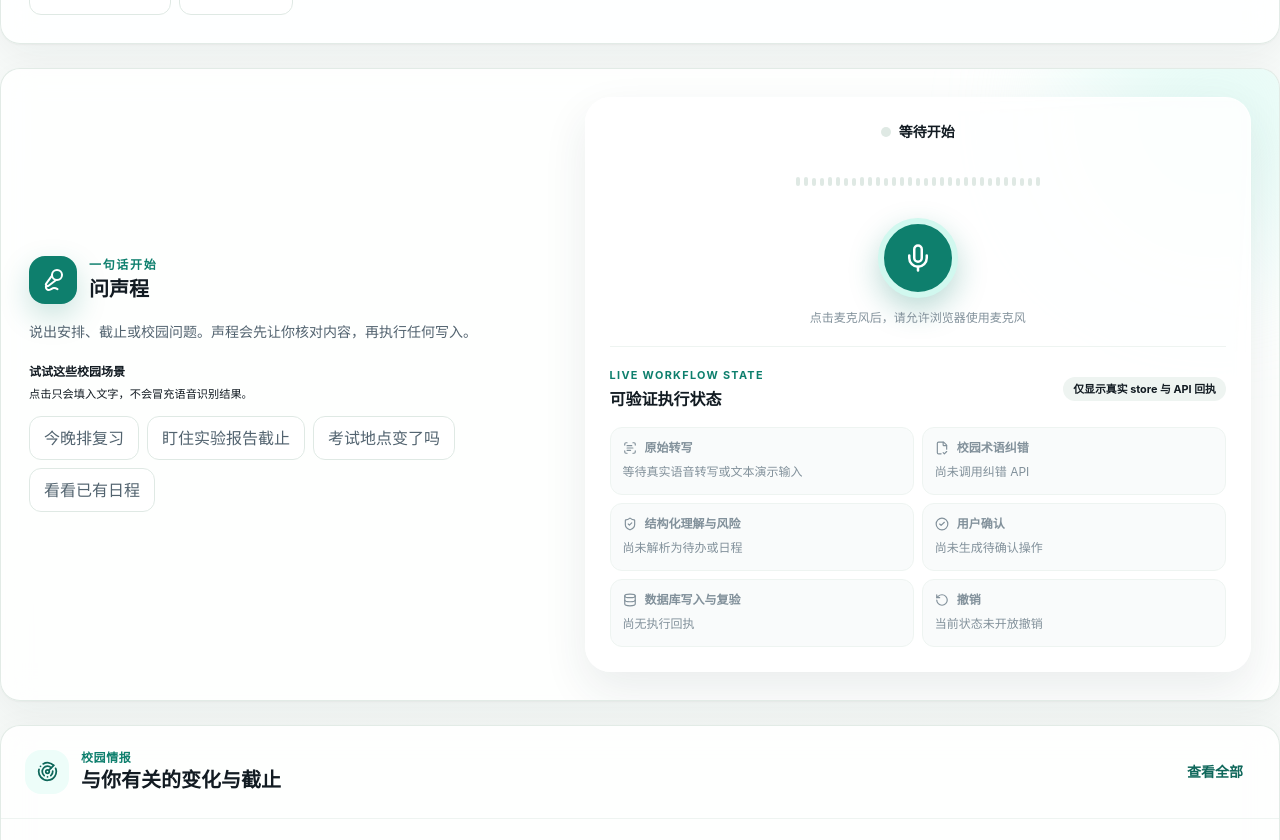
dashboard business states › places Today before the student voice entry and fills a full prompt into the shared workflow
This screenshot has width=1280, height=840.
(page scrolled)
Click the button "盯住实验报告截止" at (226, 438), box [147,416,305,460]
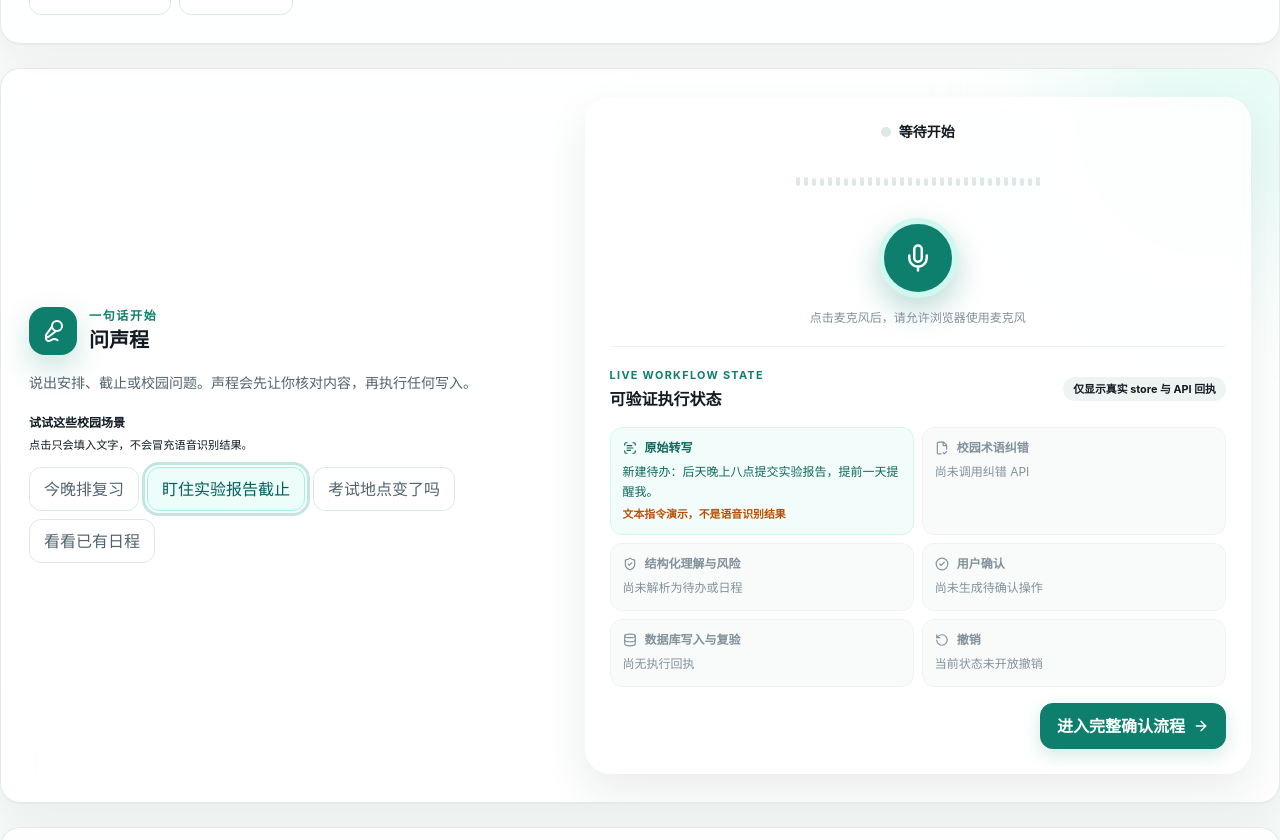
Expected: the text "新建待办：后天晚上八点提交实验报告，提前一天提醒我。" is shown, [623,462,901,502]
Expected: the text "文本指令演示，不是语音识别结果" is shown, [623,507,786,521]
